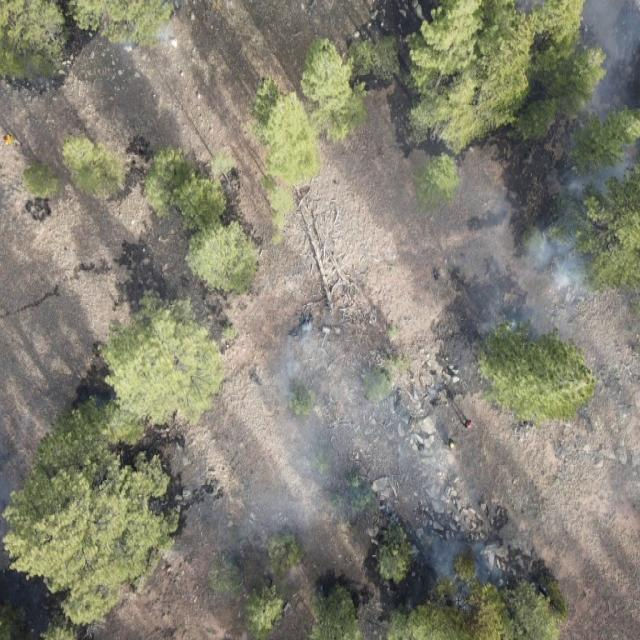smoke: (248, 287, 508, 614), (463, 0, 640, 338), (130, 16, 186, 56), (0, 463, 32, 526)
